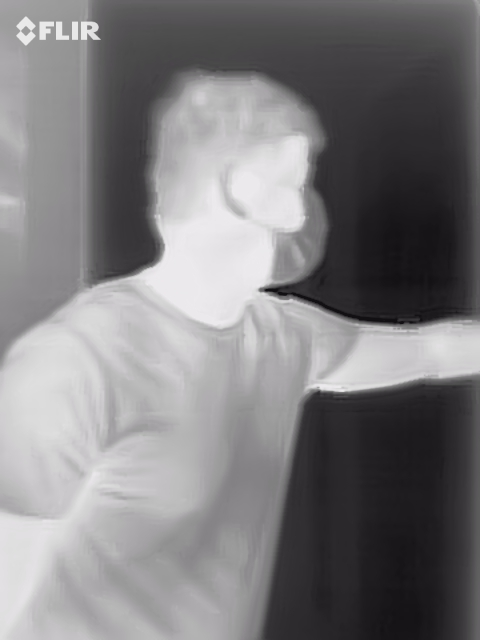head: (147, 71, 327, 287)
